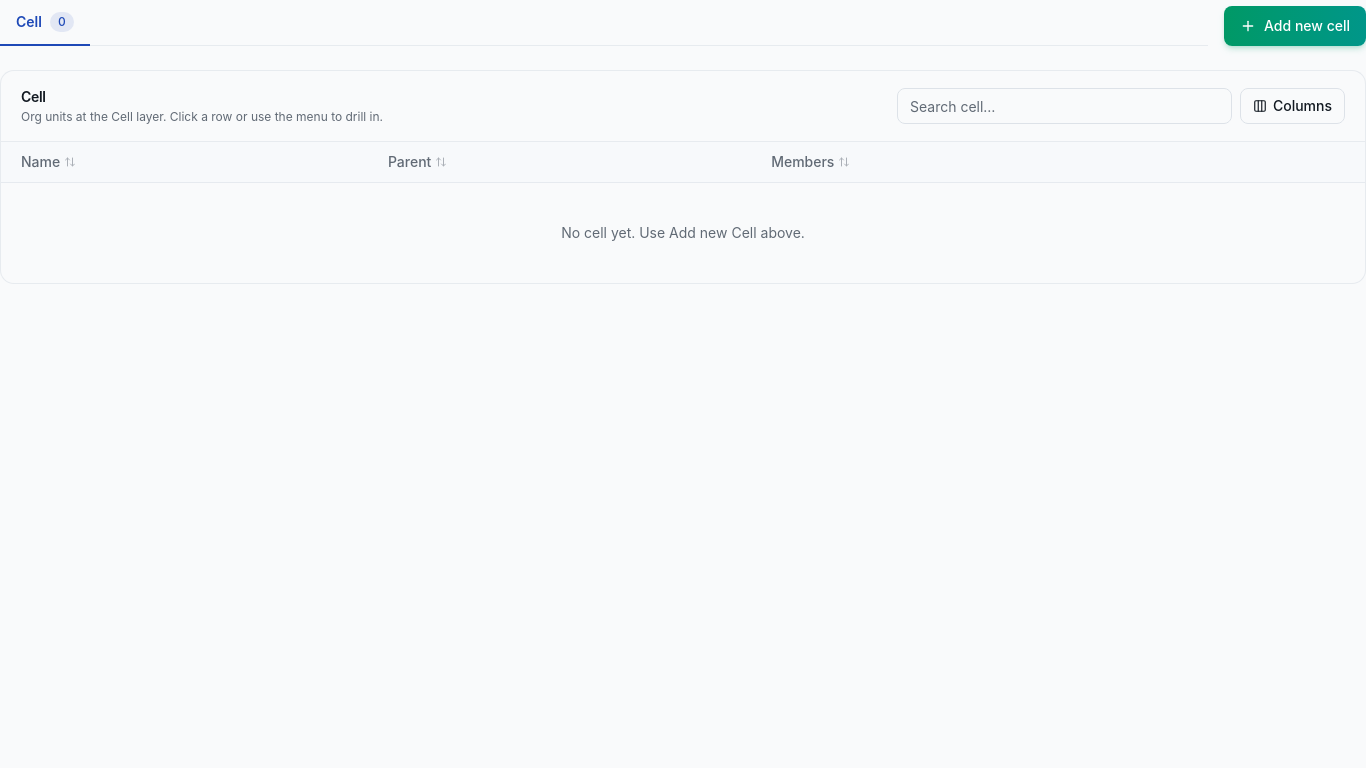
RosterView add unit › opens the create-unit modal when adding a cell on Church → Cell
Click the button "Add new cell" at point(1295, 26), box [1224, 6, 1365, 46]
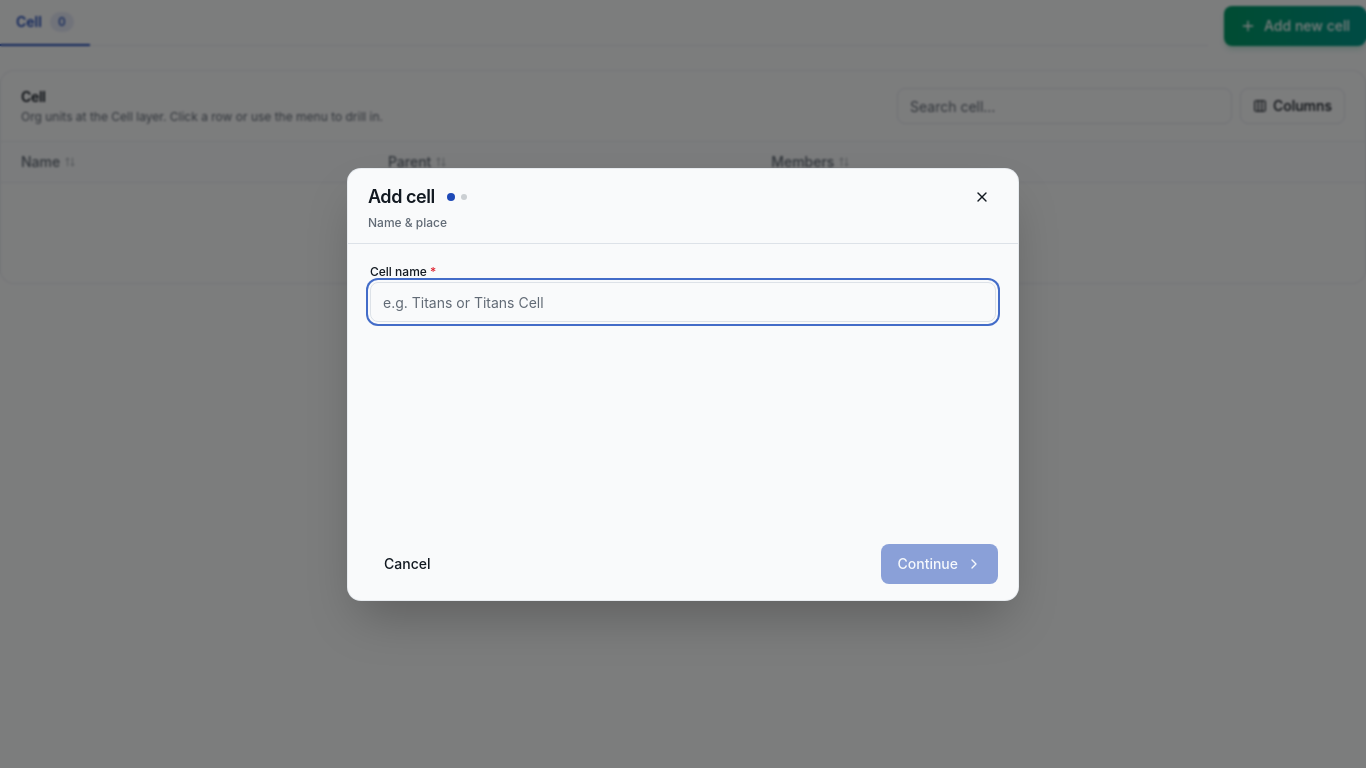
Check: the element with test id "unit-create-wizard" is shown, box [368, 260, 998, 584]
Check: the heading "Add cell" is shown, box [368, 182, 435, 210]
